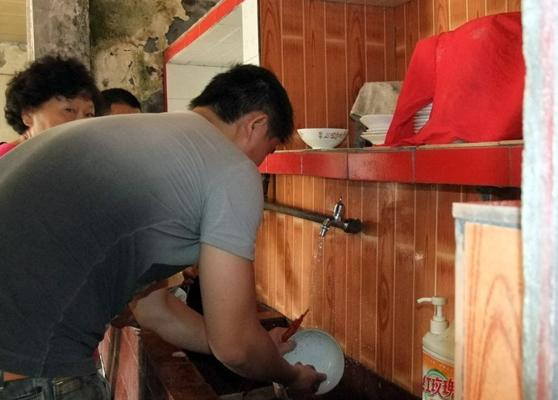person: (2, 65, 327, 400)
